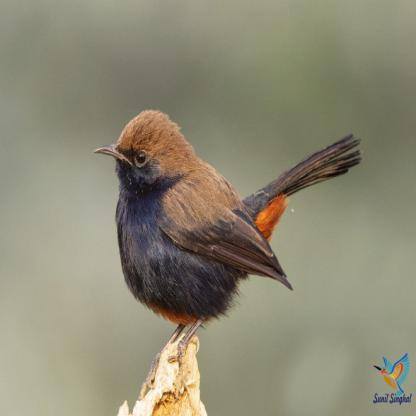Burung: (92, 108, 364, 402)
